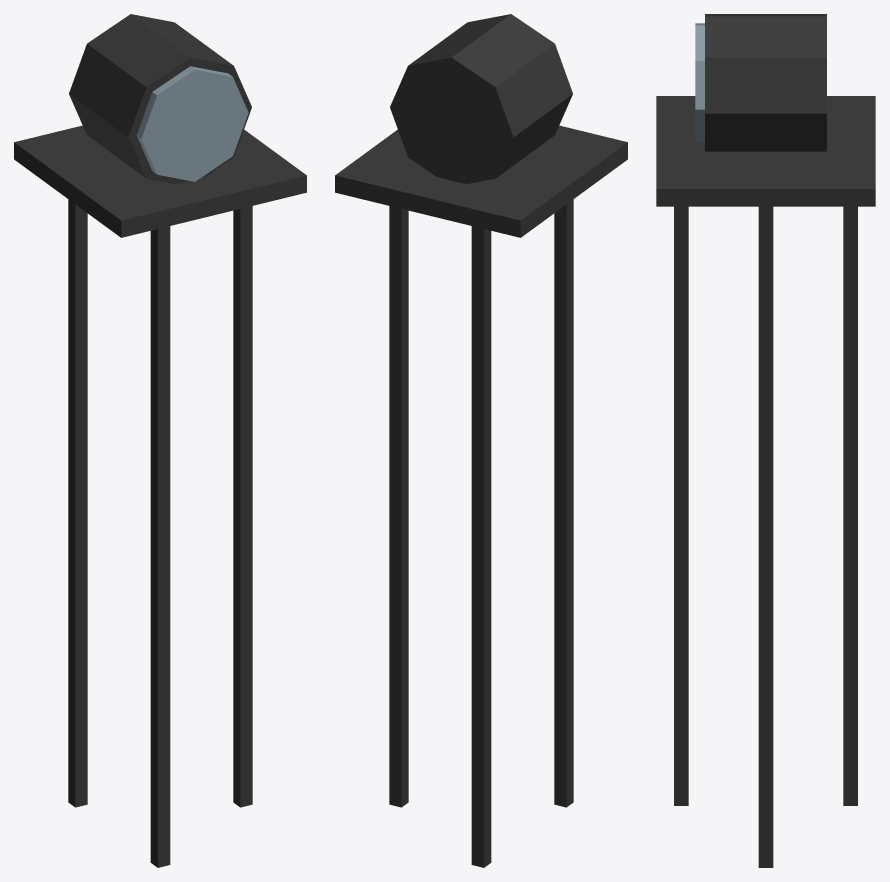
Rendered from holofote.glb.
3 renders of one model, left to right at view 1: azimuth 30°, elevation 25°; view 2: azimuth 150°, elevation 25°; view 3: azimuth 270°, elevation 25°, orthographic. The views are drawn at different scales.
Parts seen in each view (by area): view 1: holofote; view 2: holofote; view 3: holofote.
Boxes of the visible parts, <box> form: holofote: <box>14,14,306,867</box>; holofote: <box>335,14,627,867</box>; holofote: <box>656,14,875,867</box>.
Bounding box in the file's own units: 0.9 × 3.65 × 0.9.
